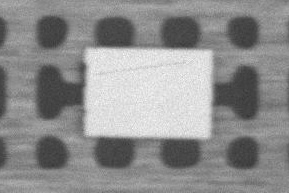DIE_CRACK: (144, 41, 277, 49)
